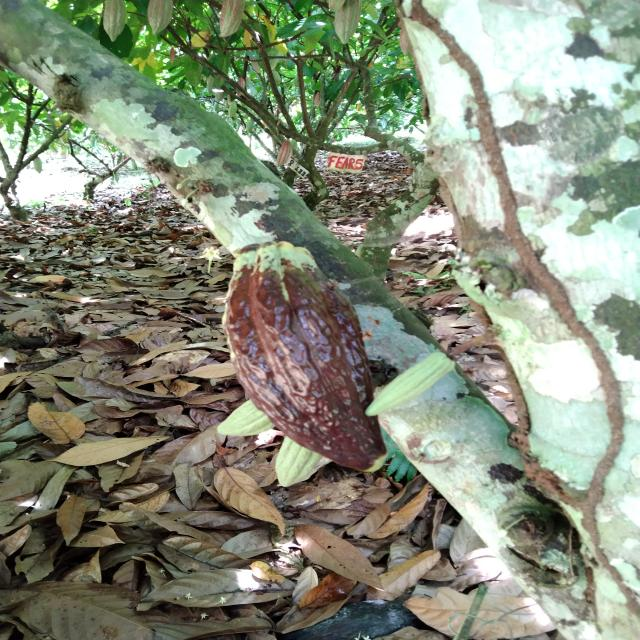Fitoftora: (219, 244, 399, 473)
Sana: (365, 348, 459, 417), (97, 0, 128, 36), (214, 0, 240, 38), (333, 1, 355, 42), (146, 1, 170, 32)
